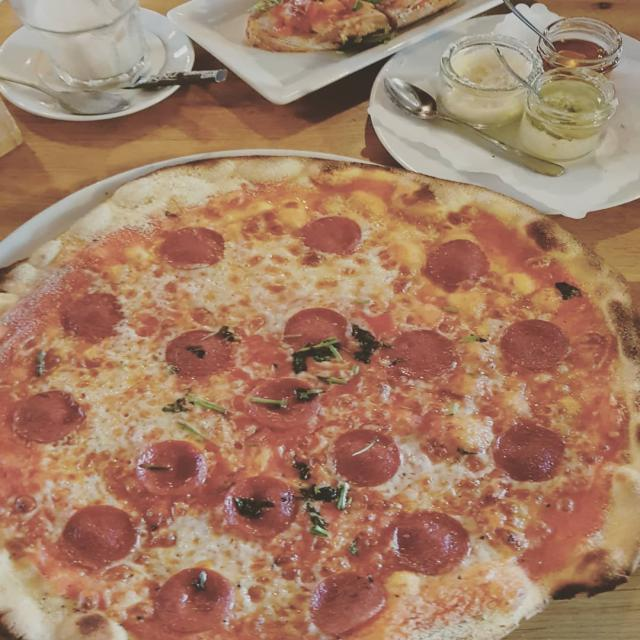basil: (300, 481, 350, 536), (292, 337, 342, 372), (352, 325, 391, 364), (162, 395, 226, 414), (284, 379, 322, 403), (234, 498, 274, 518), (214, 326, 241, 343), (248, 398, 287, 408), (186, 345, 206, 359), (294, 461, 309, 479), (458, 335, 487, 342), (194, 579, 206, 590)
pepperoni: (154, 568, 232, 633), (309, 575, 386, 634), (223, 476, 297, 537), (66, 505, 136, 569), (392, 511, 458, 575), (247, 379, 323, 430), (334, 429, 400, 486), (16, 391, 82, 443), (144, 440, 206, 495), (494, 432, 564, 480), (500, 320, 569, 367), (61, 292, 123, 342), (166, 330, 231, 377), (427, 238, 489, 286), (394, 330, 454, 378), (158, 228, 225, 270), (284, 308, 347, 350), (301, 216, 361, 255), (177, 421, 206, 440)
pizza: (0, 157, 637, 639)
